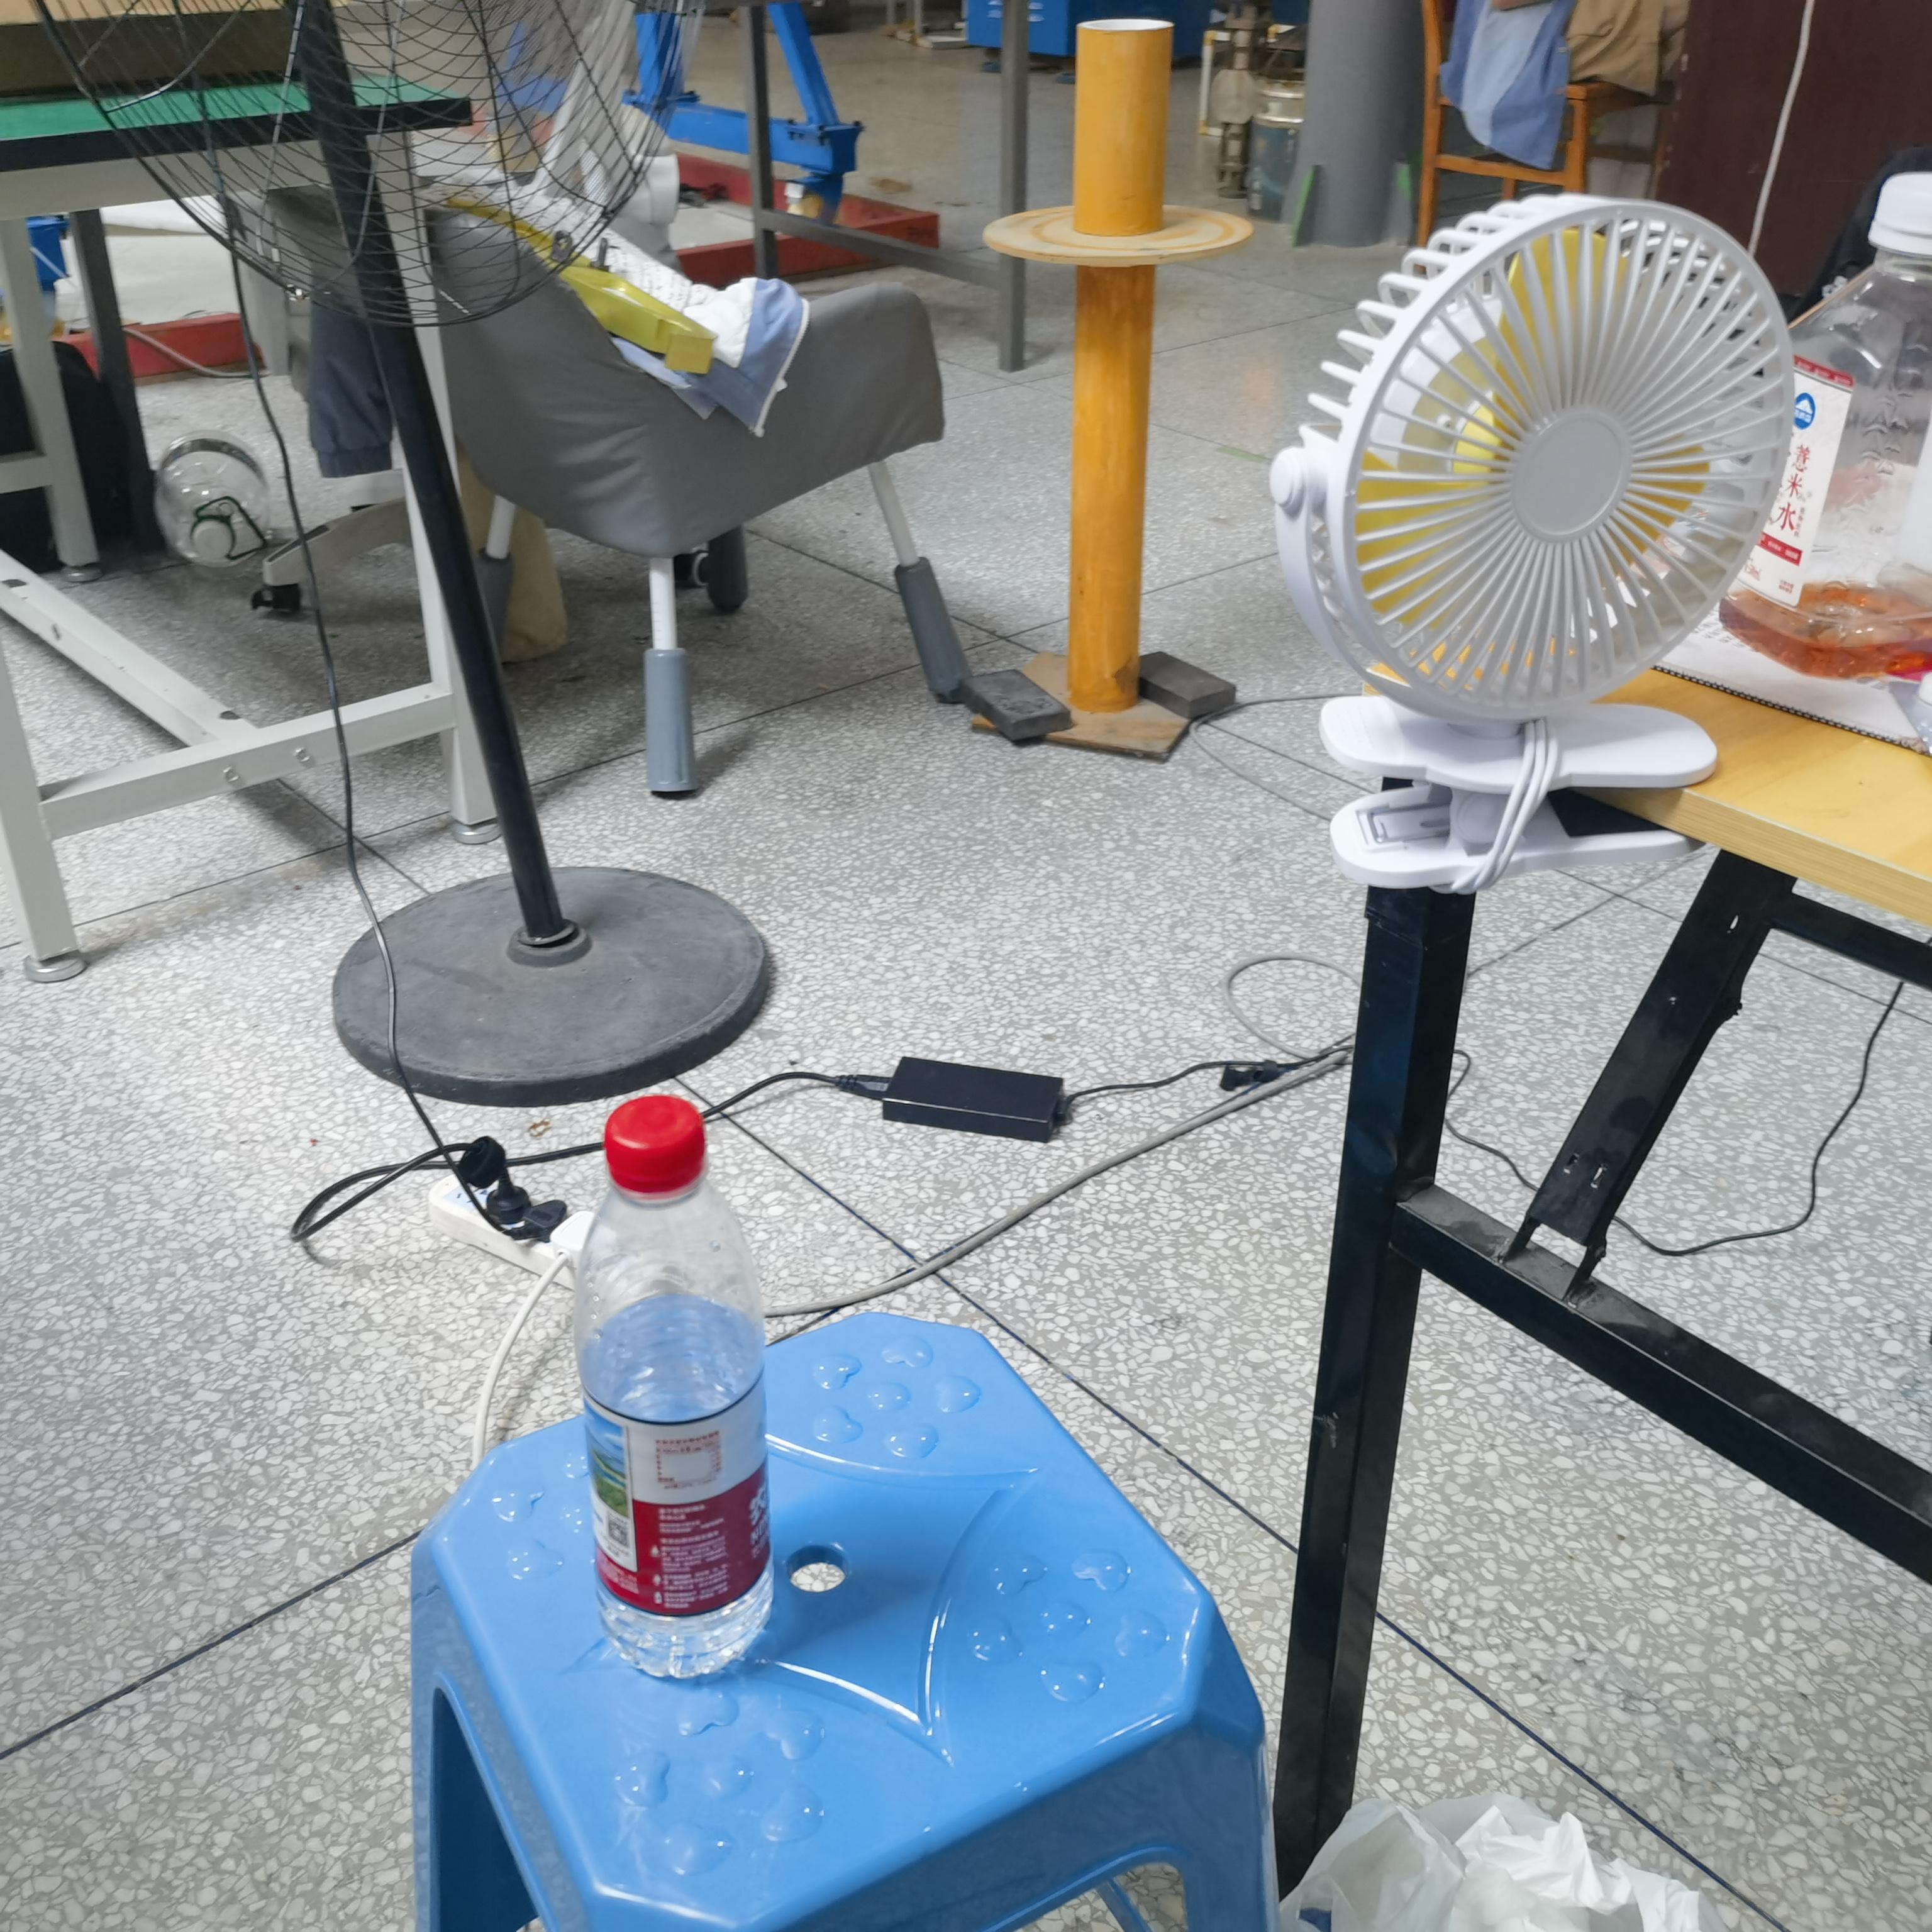bottle: (573, 1096, 774, 1679)
fan: (1270, 194, 1792, 893)
